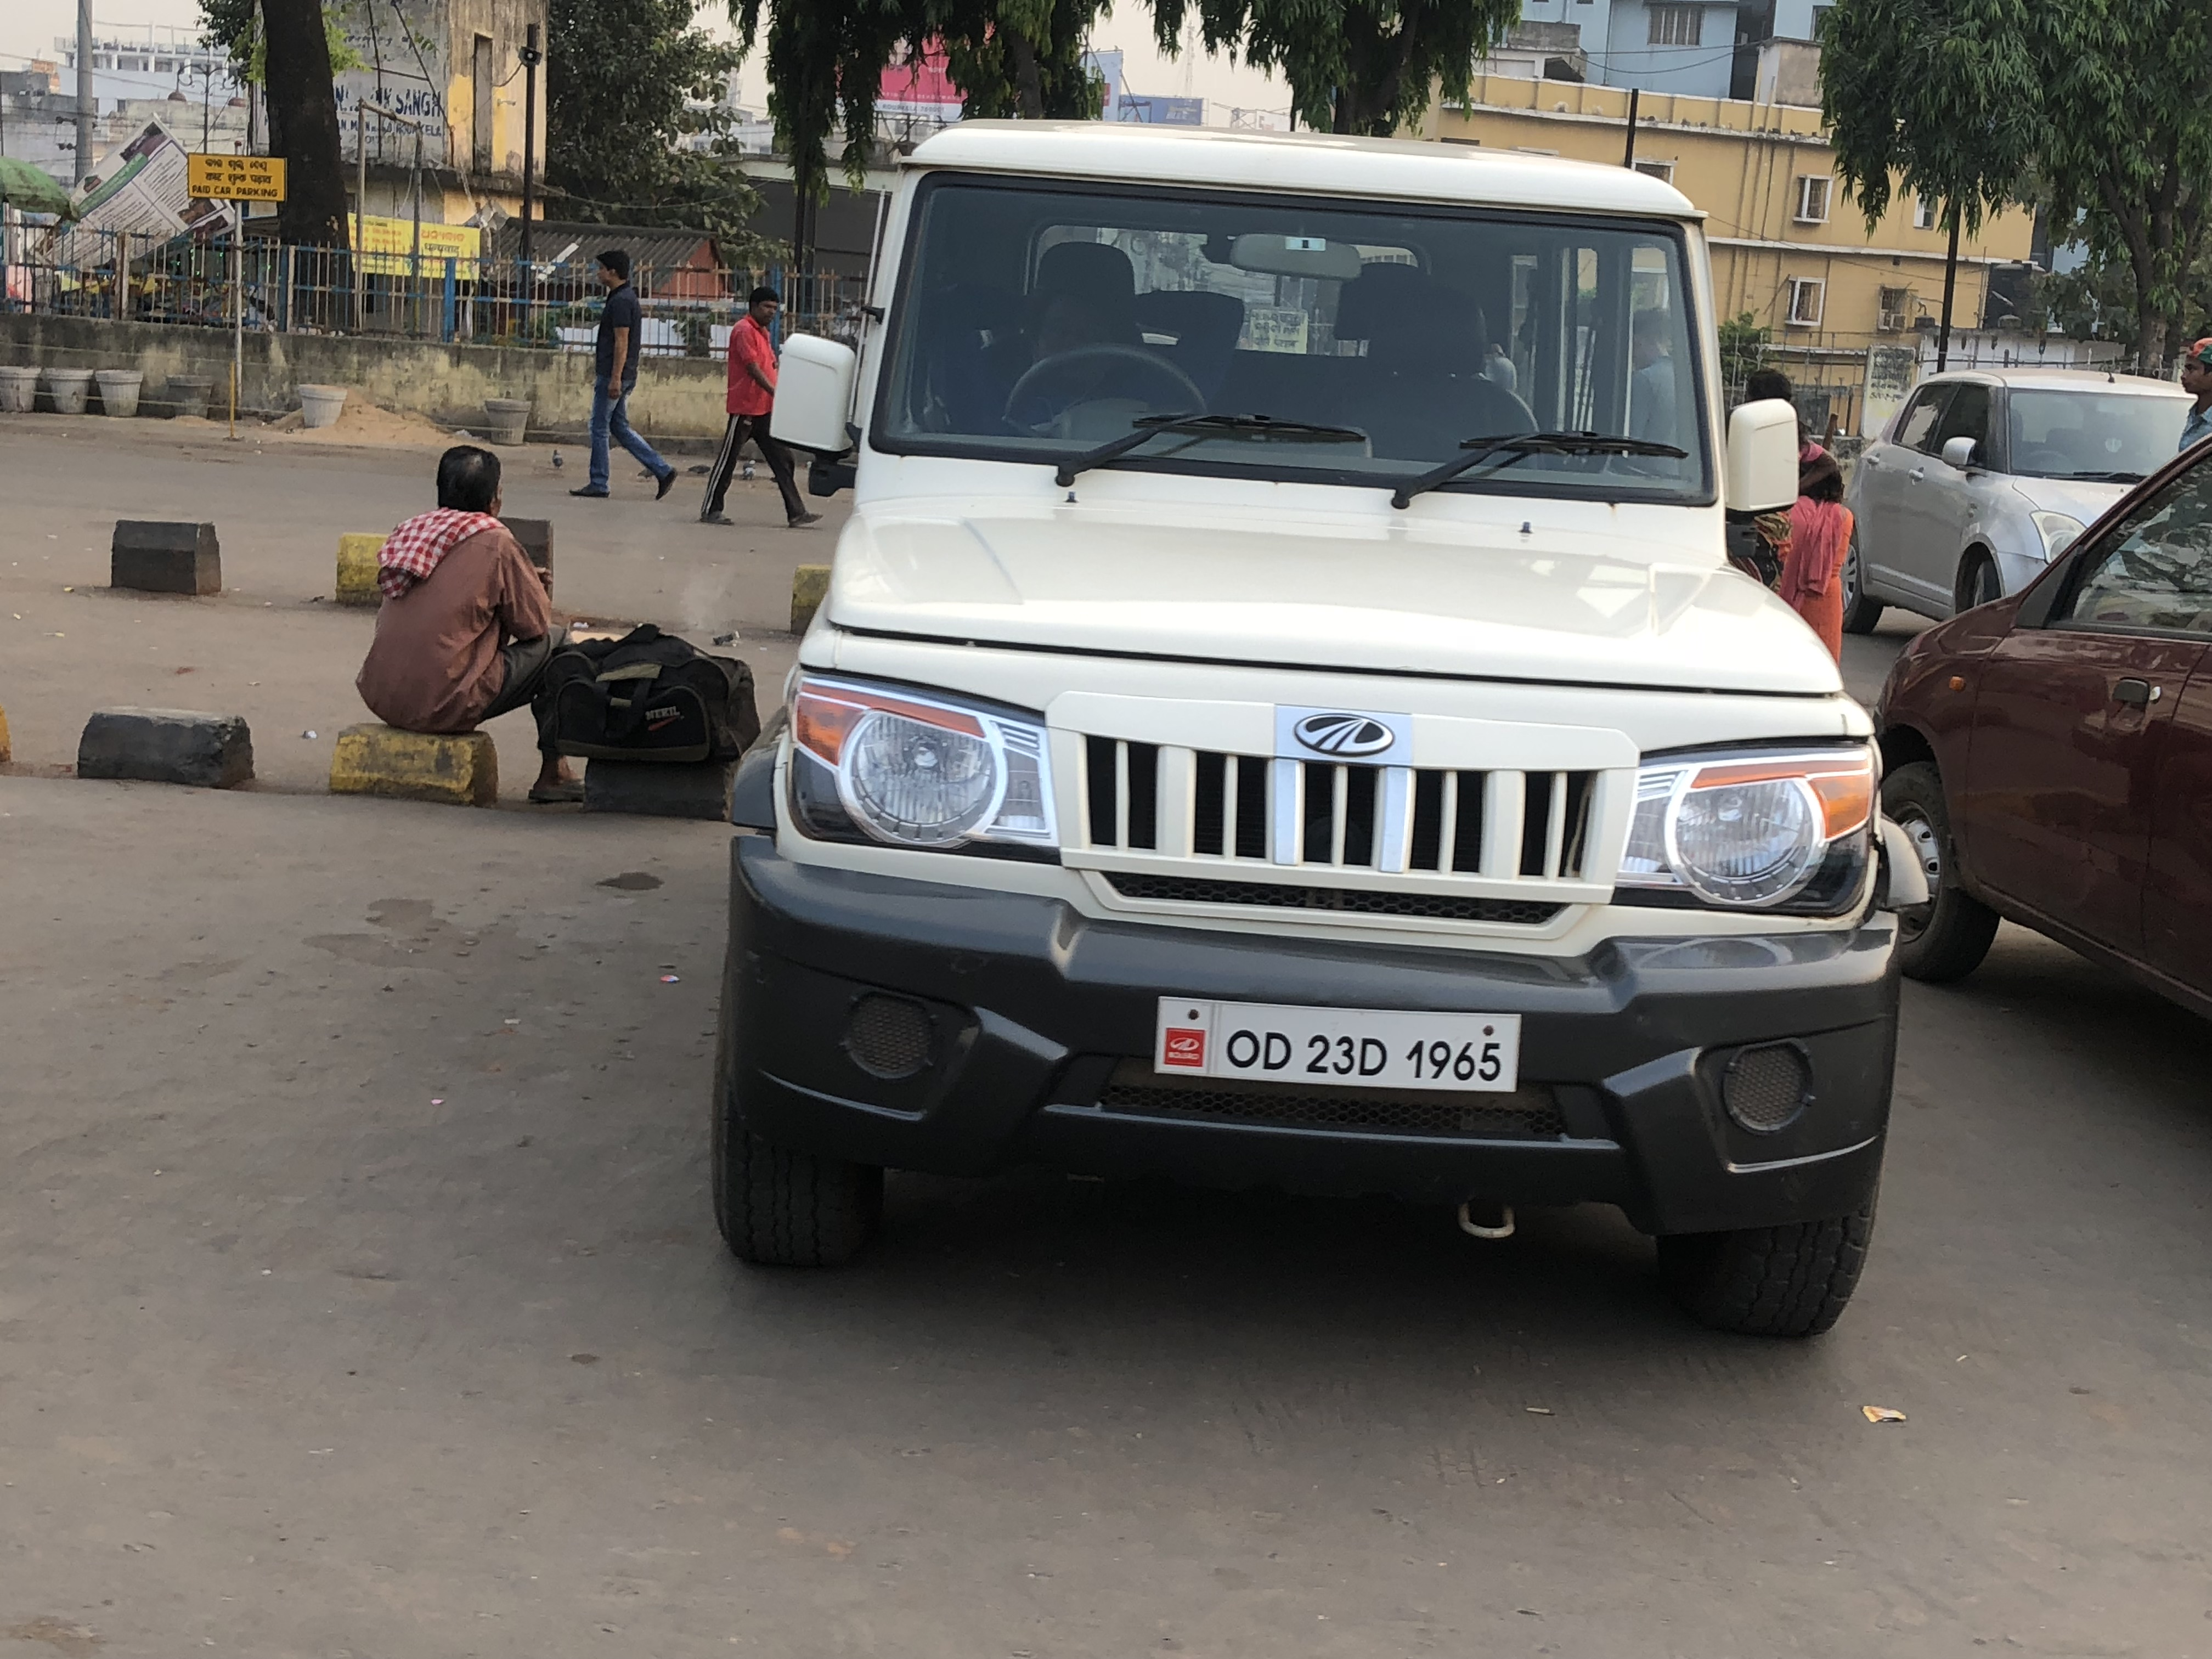licenseplate: (1141, 990, 1529, 1104)
